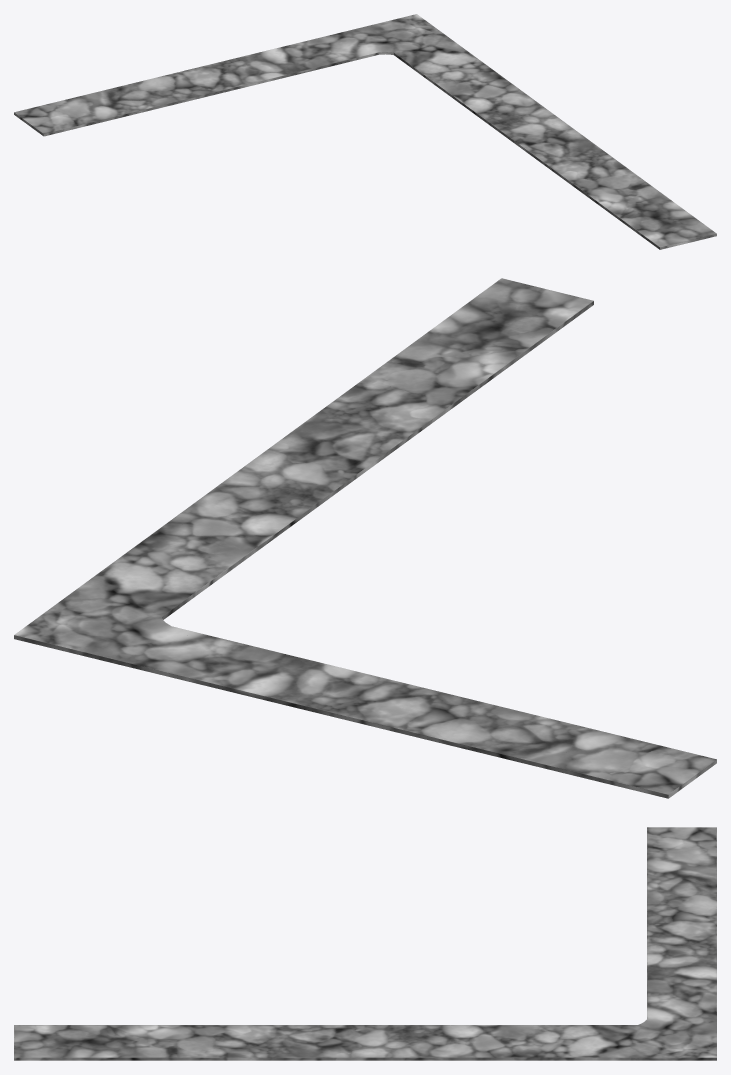
The model's file is Z2-P-Block 2.fbx.
3 renders of one model, top to bottom at view 1: azimuth 30°, elevation 25°; view 2: azimuth 150°, elevation 25°; view 3: azimuth 270°, elevation 25°, orthographic. The views are drawn at different scales.
Parts seen in each view (by area): view 1: no part large enough to name; view 2: polySurface6__1__sh_29, polySurface6__1__sh_14, polySurface6__1__sh_148, polySurface6__1__sh_12, polySurface6__1__sh_196; view 3: polySurface6__1__sh_12, polySurface6__1__sh_185, polySurface6__1__sh_120, polySurface6__1__sh_148, polySurface6__1__sh_43, polySurface6__1__sh_29, polySurface6__1__sh_14, polySurface6__1__sh_216, polySurface6__1__sh_102, polySurface6__1__sh_53, polySurface6__1__sh_174, polySurface6__1__sh_125 (+5 smaller).
Boxes of the visible parts, <box> form: polySurface6__1__sh_29: <box>387,714,443,741</box>; polySurface6__1__sh_14: <box>344,703,400,729</box>; polySurface6__1__sh_148: <box>271,679,329,704</box>; polySurface6__1__sh_12: <box>396,329,456,355</box>; polySurface6__1__sh_196: <box>86,636,128,663</box>; polySurface6__1__sh_12: <box>115,1045,166,1060</box>; polySurface6__1__sh_185: <box>558,1041,590,1060</box>; polySurface6__1__sh_120: <box>512,1047,558,1060</box>; polySurface6__1__sh_148: <box>679,953,716,971</box>; polySurface6__1__sh_43: <box>339,1042,374,1060</box>; polySurface6__1__sh_29: <box>686,910,716,927</box>; polySurface6__1__sh_14: <box>683,926,716,941</box>; polySurface6__1__sh_216: <box>151,1035,181,1060</box>; polySurface6__1__sh_102: <box>589,1040,618,1060</box>; polySurface6__1__sh_53: <box>94,1043,129,1060</box>; polySurface6__1__sh_174: <box>253,1045,287,1060</box>; polySurface6__1__sh_125: <box>632,1046,667,1060</box>.
Bounding box in the file's own units: 3801 × 21.99 × 4904.
1 material, 1 textured.
